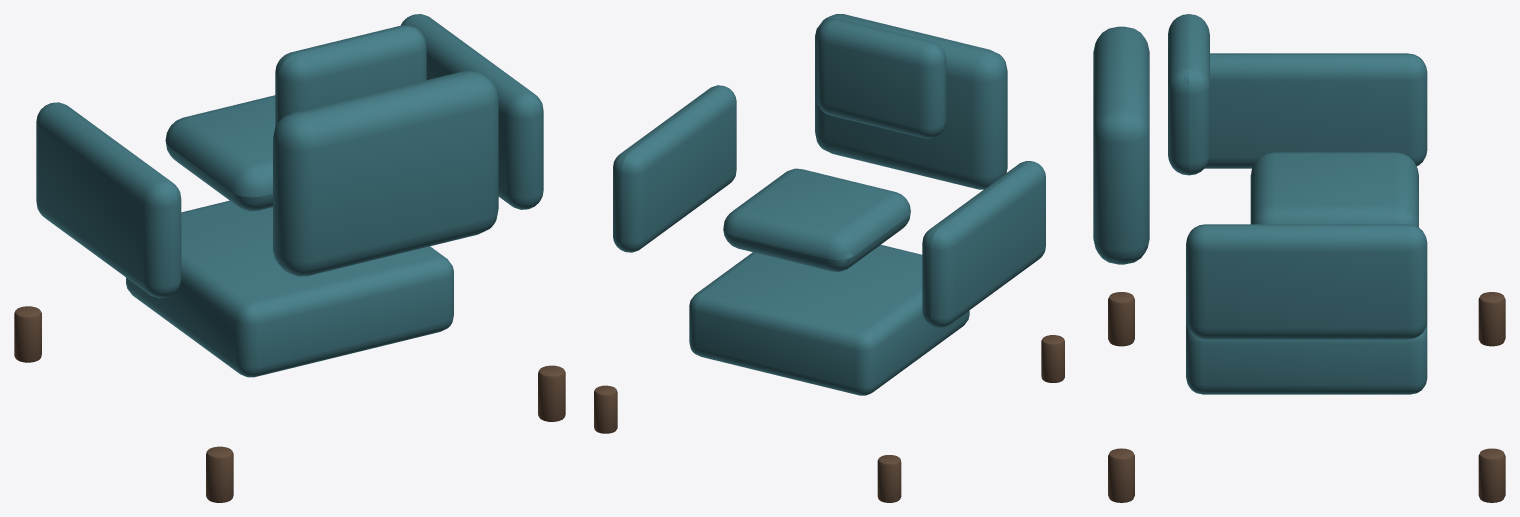
Rendered from armchair.glb.
3 views of the same model, side by side, from view 1: azimuth 30°, elevation 25°; view 2: azimuth 150°, elevation 25°; view 3: azimuth 270°, elevation 25° (orthographic). The views are drawn at different scales.
Visible parts, largest first — view 1: back, base, arm, backpad, cushion, arm.001, leg.001, leg.002, leg; view 2: base, back, arm.001, arm, cushion, backpad, leg.001, leg.003, leg; view 3: arm.001, arm, base, back, cushion, backpad, leg.001, leg.003, leg.002, leg.
Part boxes in pixels (bbox=[...]): back: bbox=[273, 70, 498, 276]; base: bbox=[126, 200, 453, 377]; arm: bbox=[36, 102, 181, 298]; backpad: bbox=[275, 25, 426, 126]; cushion: bbox=[165, 95, 275, 211]; arm.001: bbox=[401, 14, 543, 209]; leg.001: bbox=[14, 306, 41, 362]; leg.002: bbox=[538, 365, 565, 421]; leg: bbox=[206, 446, 233, 502]; base: bbox=[689, 245, 969, 395]; back: bbox=[815, 14, 1007, 189]; arm.001: bbox=[613, 85, 736, 252]; arm: bbox=[922, 161, 1045, 327]; cushion: bbox=[723, 168, 910, 271]; backpad: bbox=[817, 18, 946, 138]; leg.001: bbox=[877, 455, 901, 502]; leg.003: bbox=[594, 385, 617, 433]; leg: bbox=[1041, 335, 1064, 382]; arm.001: bbox=[1186, 224, 1427, 339]; arm: bbox=[1205, 53, 1427, 168]; base: bbox=[1186, 320, 1427, 394]; back: bbox=[1093, 26, 1149, 264]; cushion: bbox=[1250, 152, 1418, 227]; backpad: bbox=[1168, 14, 1209, 175]; leg.001: bbox=[1478, 292, 1505, 346]; leg.003: bbox=[1478, 448, 1505, 502]; leg.002: bbox=[1108, 448, 1134, 502]; leg: bbox=[1108, 292, 1134, 346].
Size of the model in its own units: 0.79 by 0.745 by 0.734.
